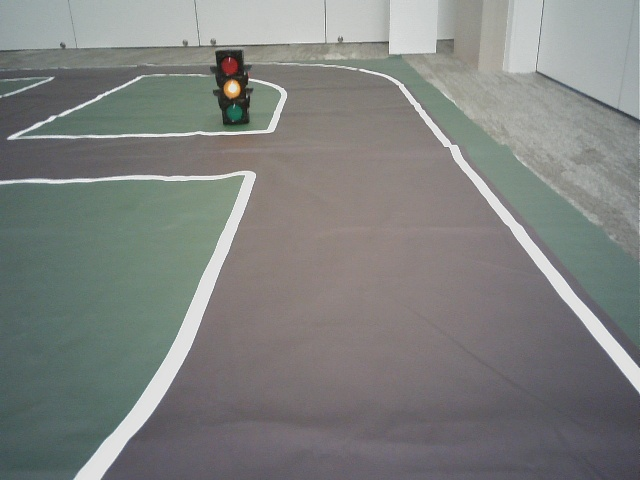yellow: (219, 53, 244, 122)
